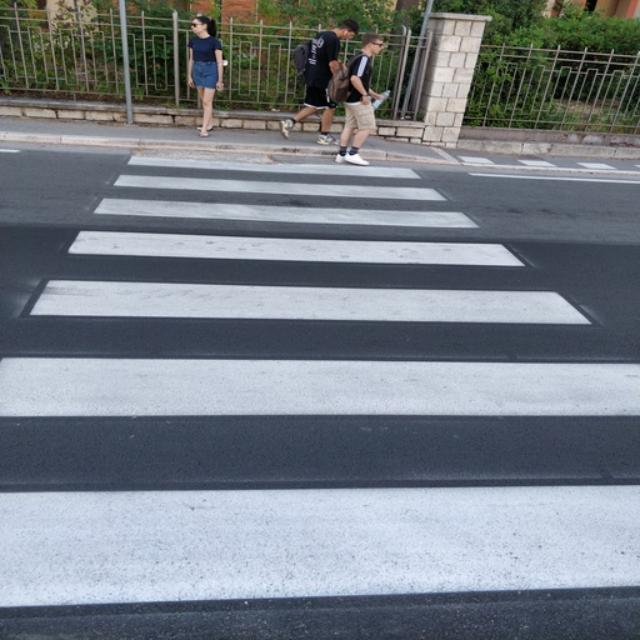sidewalk: (0, 149, 640, 609)
